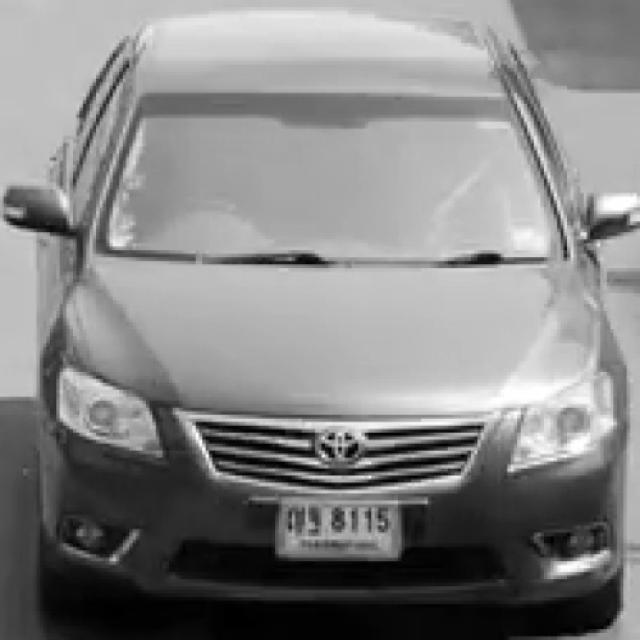plate: (280, 498, 398, 556)
